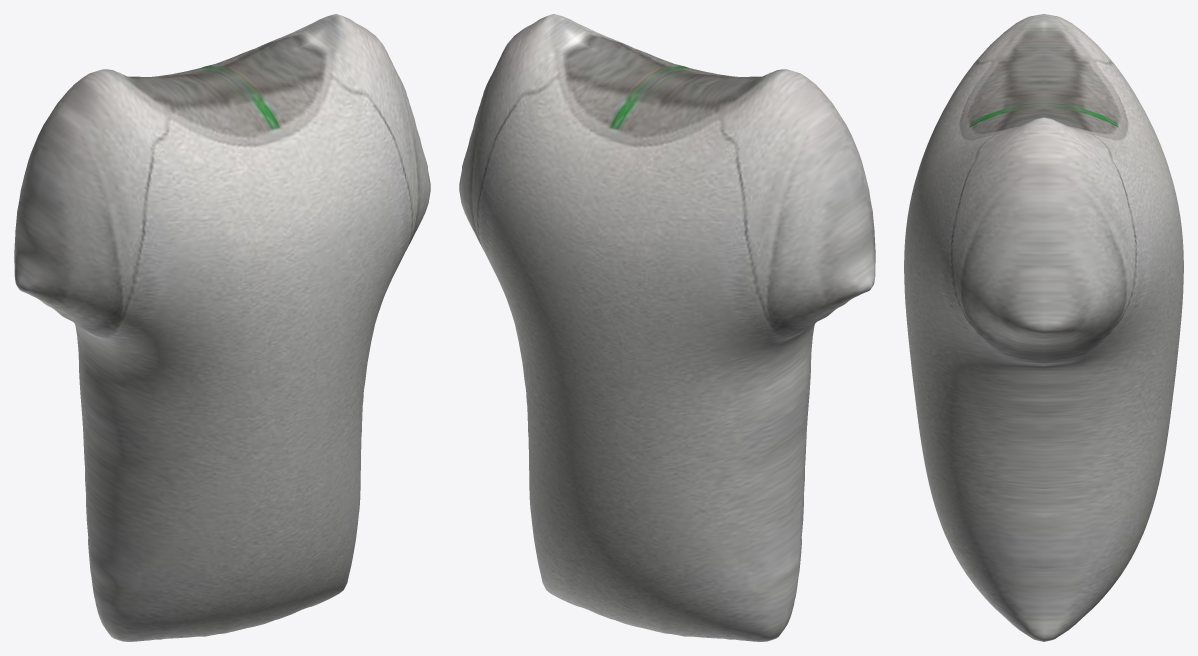
File: 4BE21D09R-C11@10=cloth_front.glb
3 views of the same model, side by side, from view 1: azimuth 30°, elevation 25°; view 2: azimuth 150°, elevation 25°; view 3: azimuth 270°, elevation 25° (orthographic). The views are drawn at different scales.
Bounding box in the file's own units: 4.6 × 6.26 × 2.99.
Materials: 1 (1 with a texture image).
